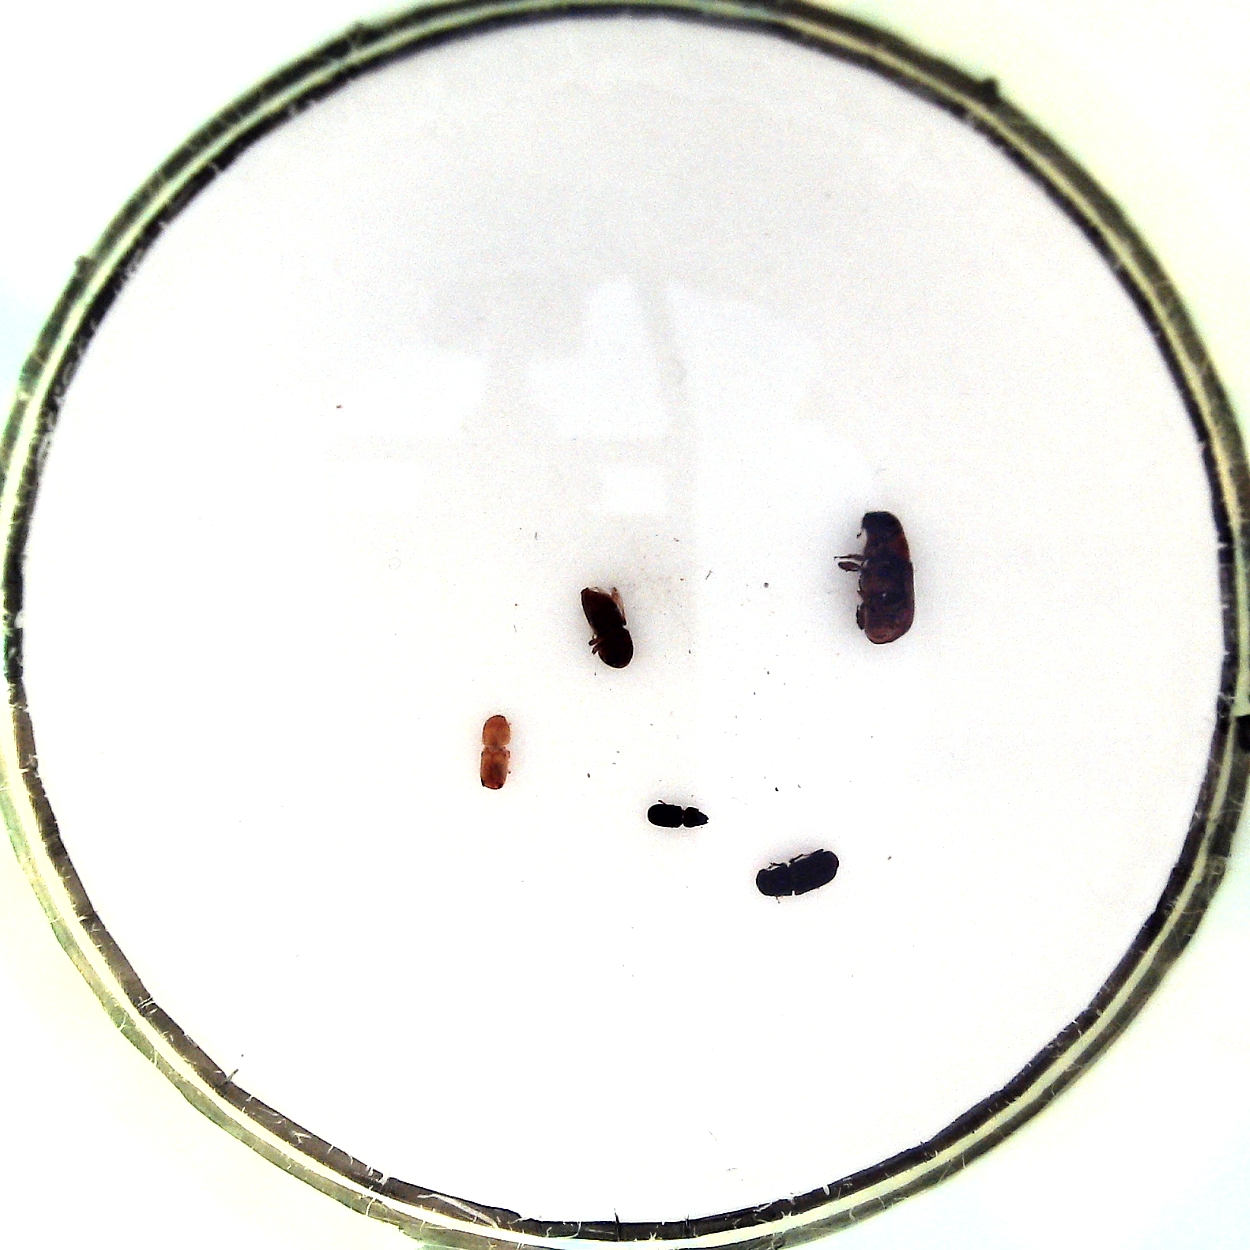Leconte: (834, 508, 919, 646)
Linnaeus: (578, 582, 636, 671)
acuminatus: (476, 707, 517, 797)
armandi: (753, 844, 840, 900)
coleoptera: (643, 796, 712, 834)
